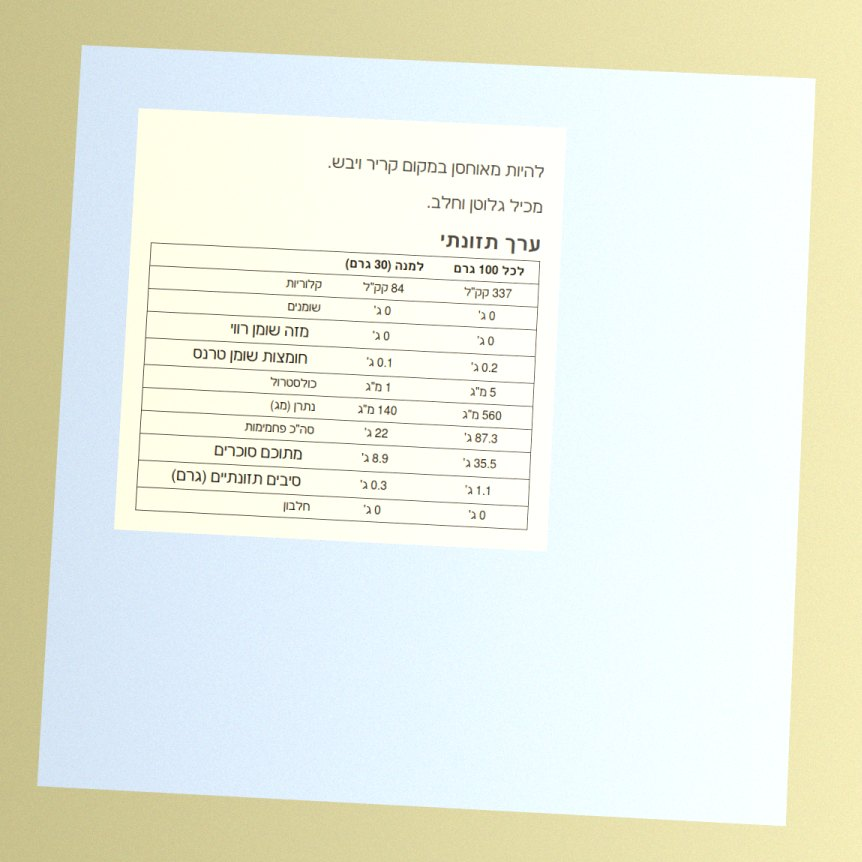carbs: (462, 430, 499, 447)
energy: (462, 285, 514, 302)
fat: (476, 308, 497, 324)
protein: (466, 508, 488, 524)
